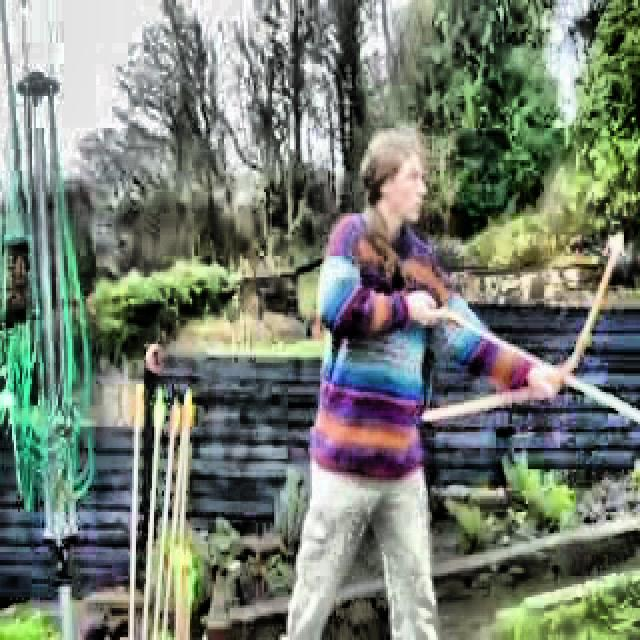I: (298, 119, 568, 640)
